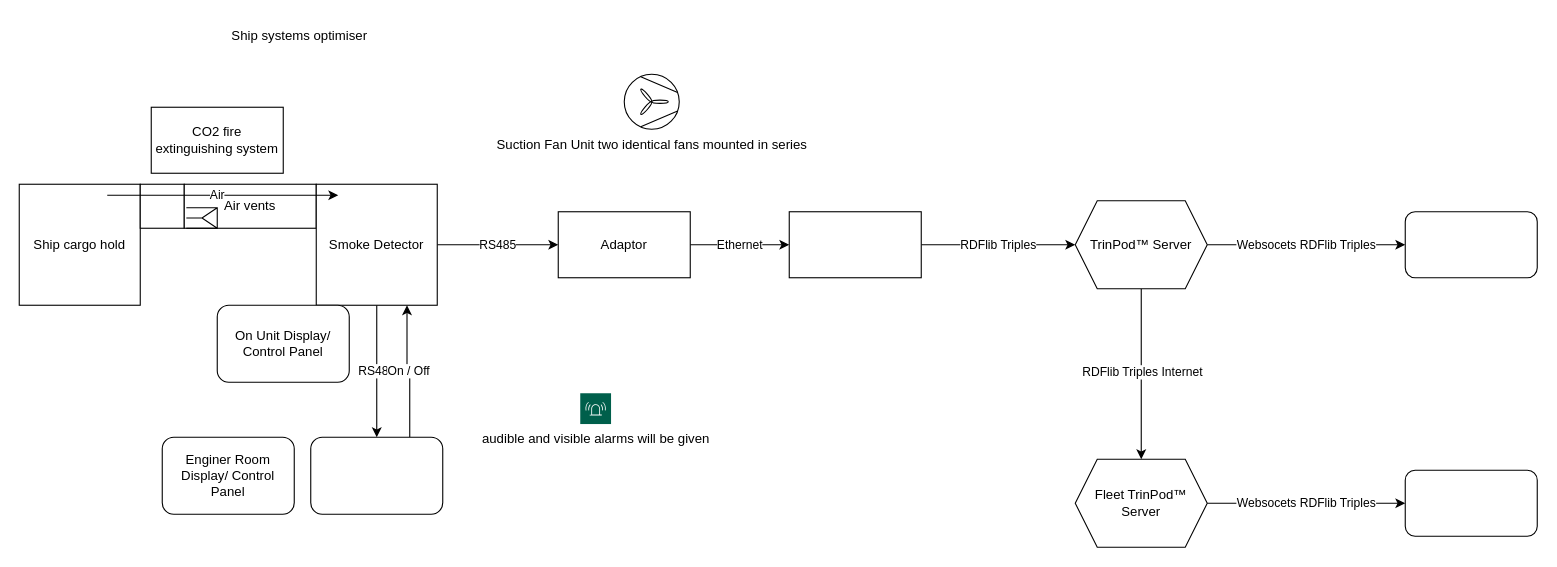
Image size: 1557x567. Some labels were removed from this diagram. Here are the shapes that lost their labels. From the top down, the centre of each, then its label:
At (x=161, y=205): "Register".
At (x=201, y=217): "special 3-way valves".
At (x=854, y=244): "Proxy".
At (x=1470, y=244): "Ship WebApp".
At (x=376, y=475): "Bridge Display/ Control Panel".
At (x=1470, y=502): "Fleet WebApp".
